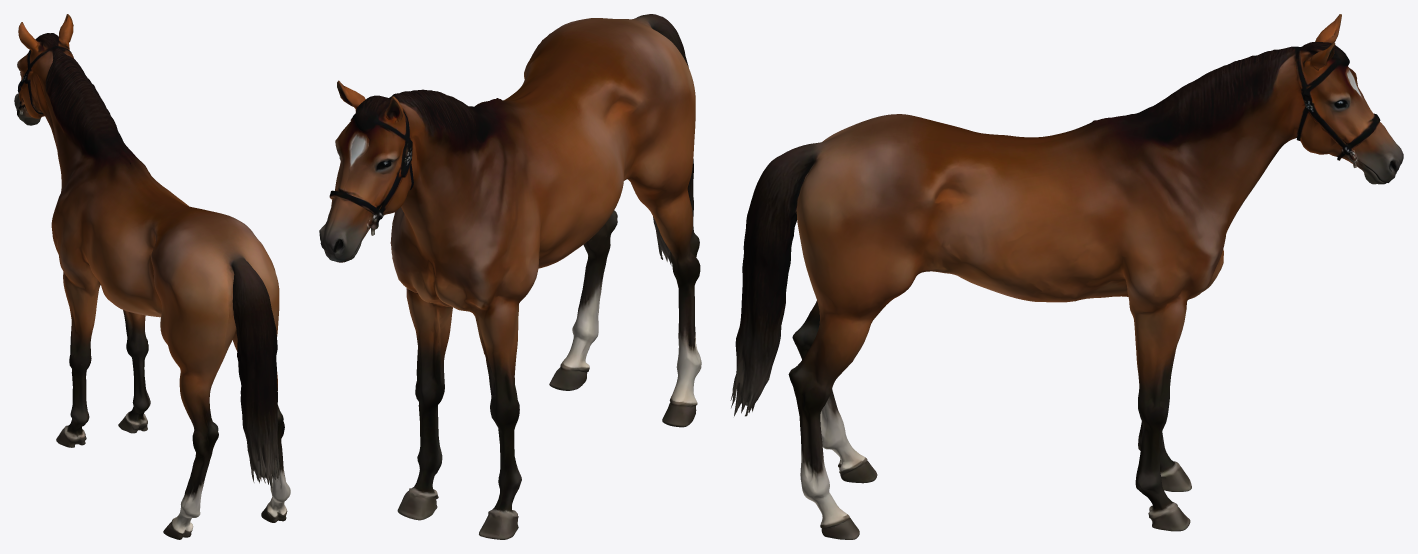
File: racehorse-C9lDRMnd.glb
The picture shows the model from 3 angles, left to right: view 1: azimuth 30°, elevation 25°; view 2: azimuth 150°, elevation 25°; view 3: azimuth 270°, elevation 25°; orthographic projection. The views are drawn at different scales.
Parts seen in each view (by area): view 1: tripo_node_d31a0409-19a6-4579-9c41-65c167452c79; view 2: tripo_node_d31a0409-19a6-4579-9c41-65c167452c79; view 3: tripo_node_d31a0409-19a6-4579-9c41-65c167452c79.
Part boxes in pixels (left/top/right/bottom): tripo_node_d31a0409-19a6-4579-9c41-65c167452c79: left=14, top=14, right=290, bottom=539; tripo_node_d31a0409-19a6-4579-9c41-65c167452c79: left=319, top=14, right=701, bottom=539; tripo_node_d31a0409-19a6-4579-9c41-65c167452c79: left=730, top=14, right=1403, bottom=539.
Bounding box in the file's own units: 0.24 × 0.7731 × 0.9796.
Materials: 1 (1 with a texture image).
